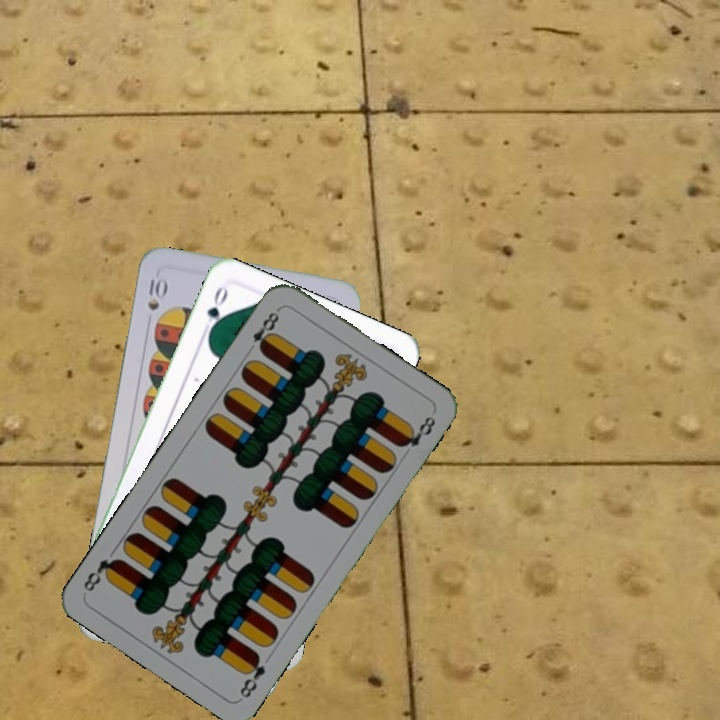E8: (243, 304, 283, 356), (235, 649, 269, 701)
GO: (198, 282, 231, 339)
S10: (143, 273, 168, 313)
